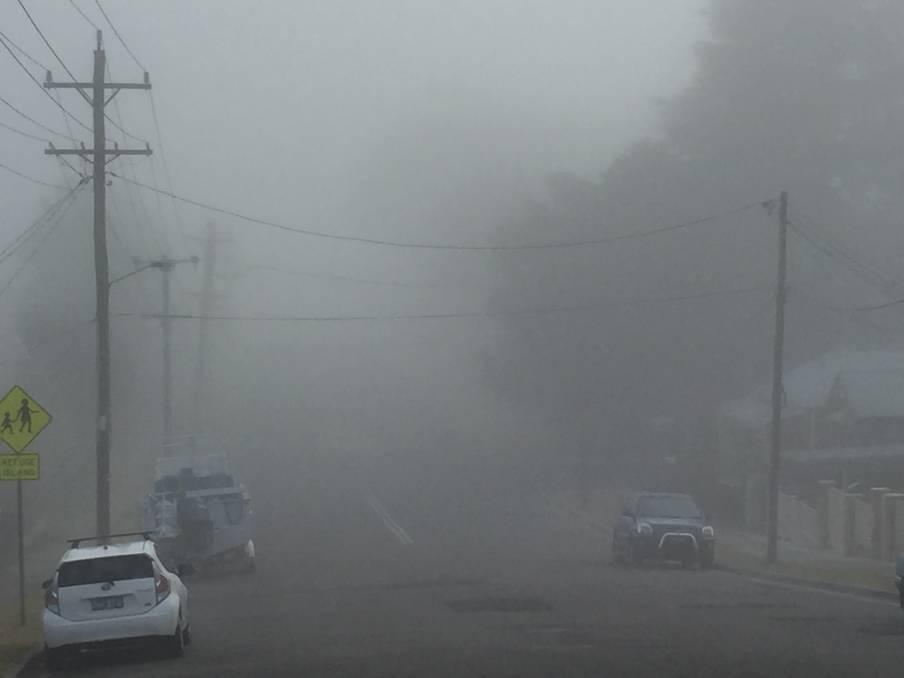airplane: (145, 429, 256, 577)
bench: (145, 429, 256, 577)
boat: (46, 397, 260, 576), (129, 324, 255, 566), (29, 519, 207, 662), (145, 430, 257, 577)
bus: (29, 519, 207, 662), (145, 452, 255, 576), (610, 490, 716, 568)
car: (37, 455, 227, 639), (36, 532, 191, 666), (145, 452, 255, 576), (609, 489, 715, 568), (645, 531, 703, 569), (699, 515, 716, 562), (891, 553, 903, 608)
person: (609, 489, 715, 568)
train: (145, 429, 256, 577)
truck: (56, 434, 244, 594), (29, 519, 207, 662), (145, 429, 256, 577), (608, 490, 715, 569), (629, 518, 711, 568)
